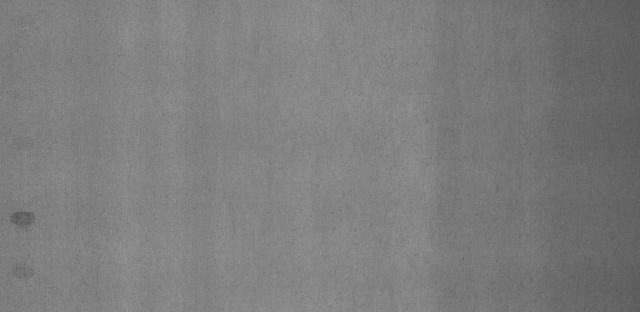oil_spot: (6, 261, 42, 284), (9, 203, 40, 228)
